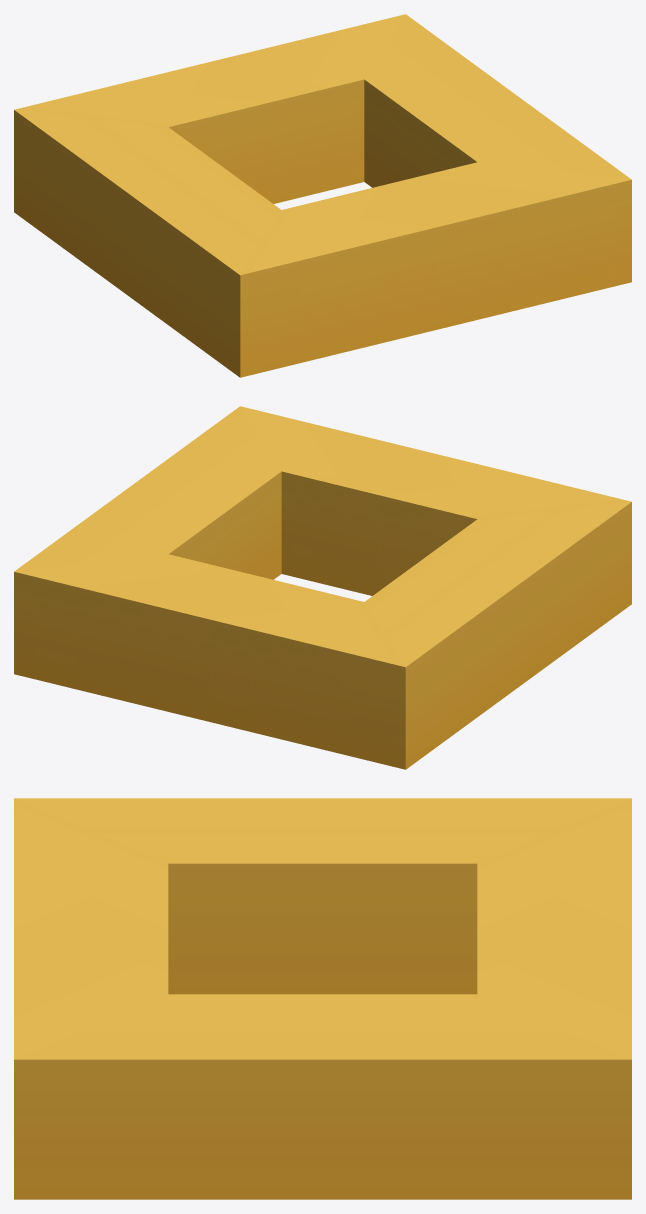
File: kaykit-prototype-bits-primitive-floor-hole.glb
3 renders of one model, top to bottom at view 1: azimuth 30°, elevation 25°; view 2: azimuth 150°, elevation 25°; view 3: azimuth 270°, elevation 25°, orthographic. The views are drawn at different scales.
Parts seen in each view (by area): view 1: Primitive_Floor_Hole; view 2: Primitive_Floor_Hole; view 3: Primitive_Floor_Hole.
Boxes of the visible parts, bbox=[...] form: Primitive_Floor_Hole: bbox=[14, 14, 631, 377]; Primitive_Floor_Hole: bbox=[14, 406, 631, 769]; Primitive_Floor_Hole: bbox=[14, 798, 631, 1199].
Size of the model in its own units: 4 by 1 by 4.
Materials: 1 (1 with a texture image).
